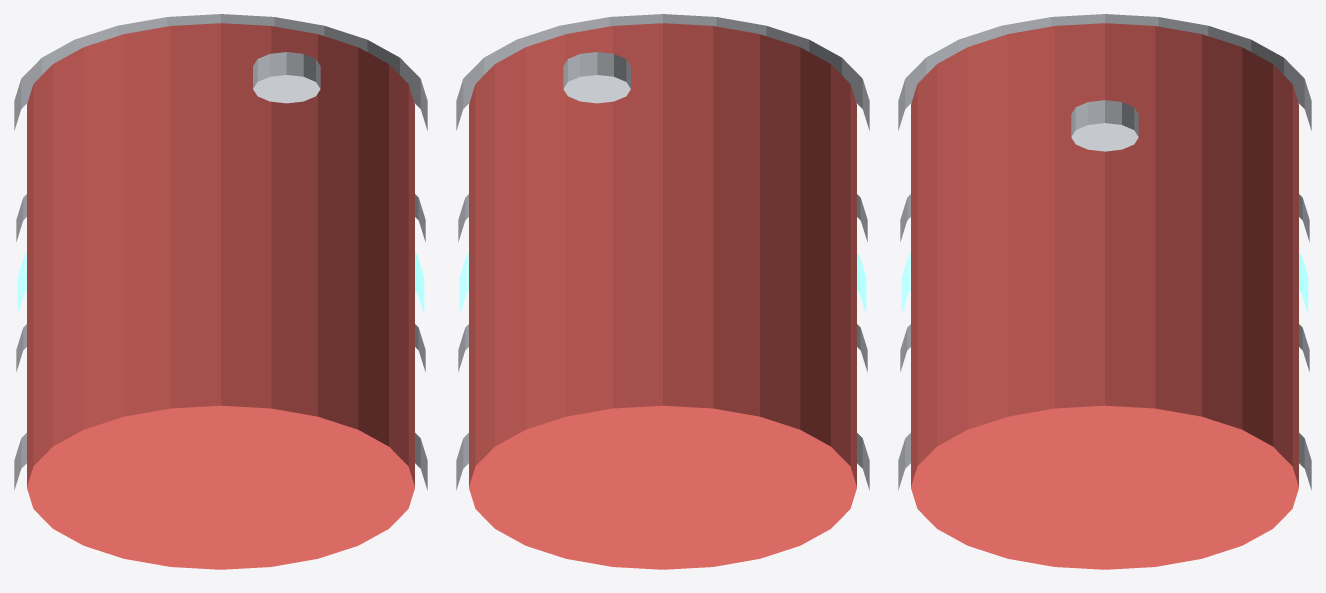
Rendered from ExplosiveBarrel.glb.
The picture shows the model from 3 angles, left to right: view 1: azimuth 30°, elevation 25°; view 2: azimuth 150°, elevation 25°; view 3: azimuth 270°, elevation 25°; orthographic projection.
Visible parts, largest first — view 1: ExplosiveBarrel; view 2: ExplosiveBarrel; view 3: ExplosiveBarrel.
Boxes of the visible parts, x1=… form: ExplosiveBarrel: x1=14, y1=14, x2=427, y2=569; ExplosiveBarrel: x1=456, y1=14, x2=869, y2=569; ExplosiveBarrel: x1=898, y1=14, x2=1311, y2=569.
Bounding box in the file's own units: 0.98 × 1.07 × 0.98.
